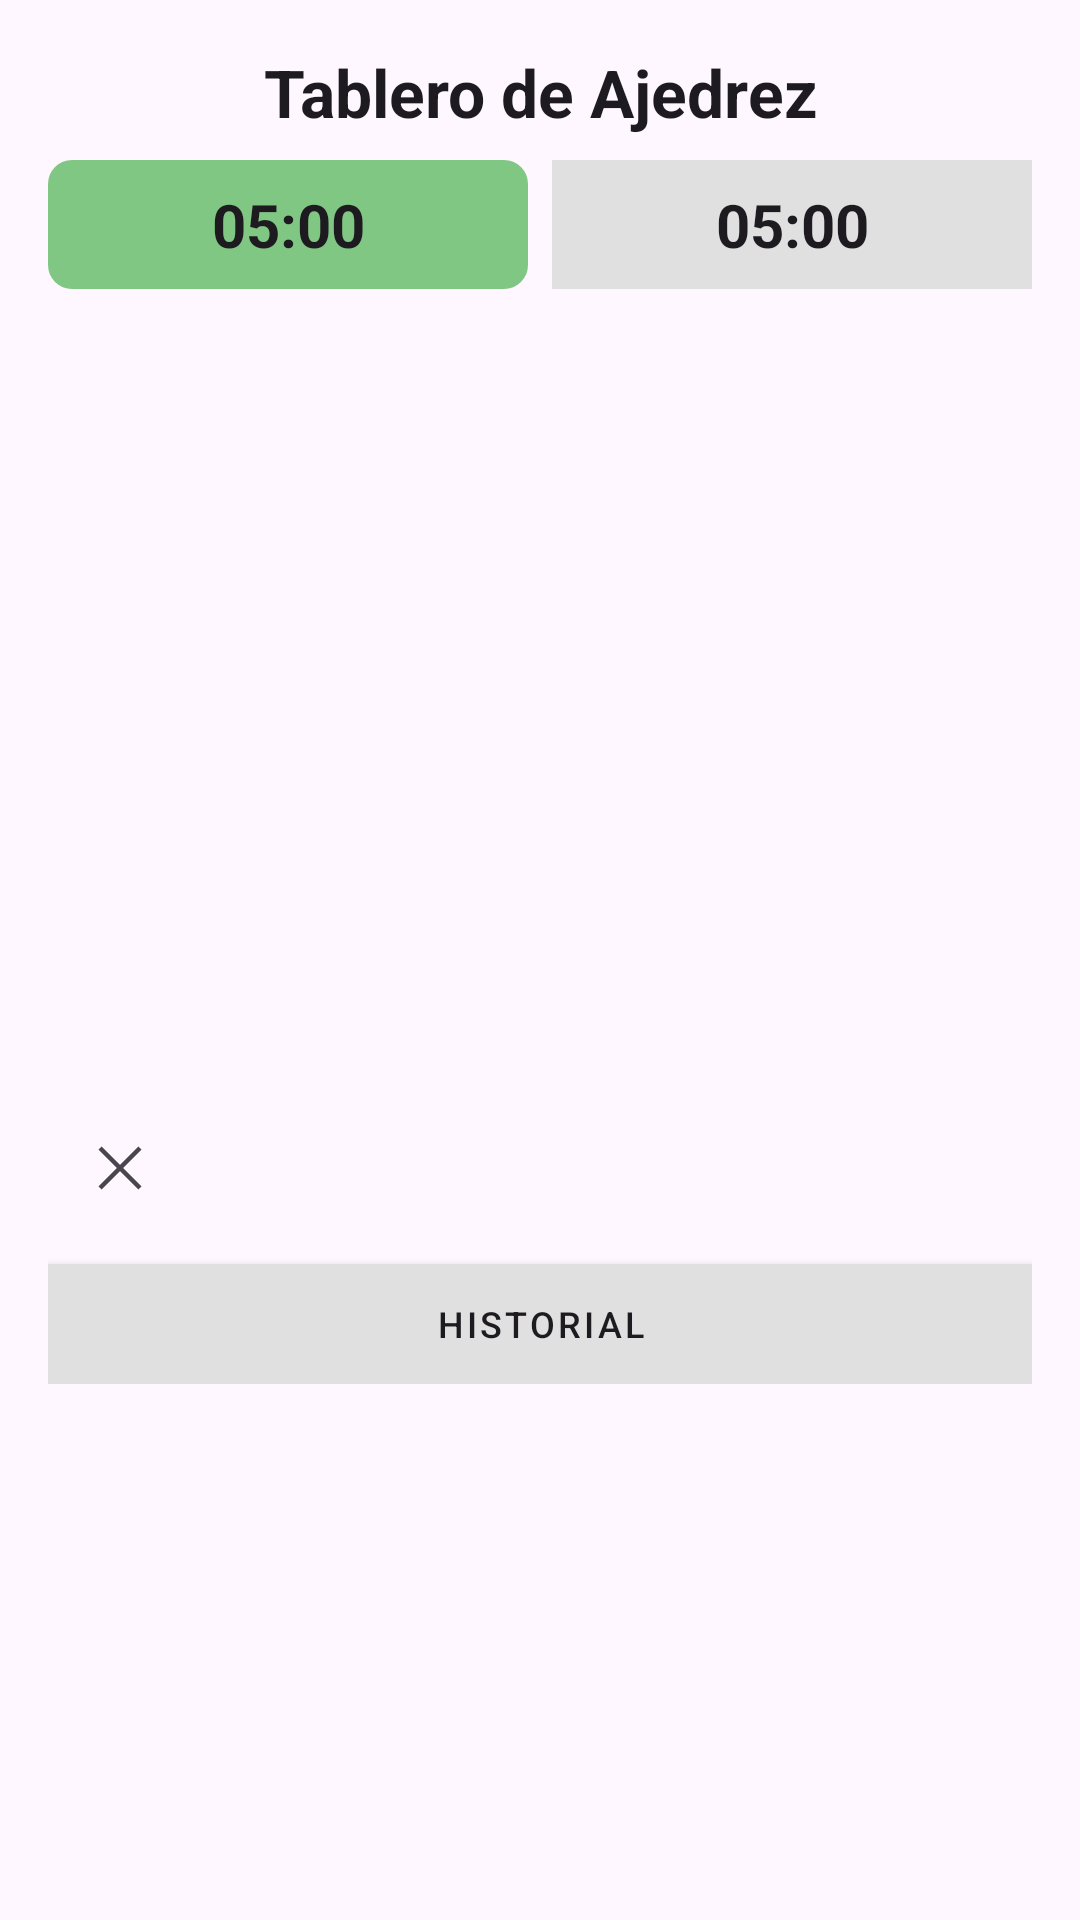

Icons on this 1080px x 1920px Android screen, each with its box as [x1, y1, x2, y2]:
Salir: [98, 1146, 142, 1190]
